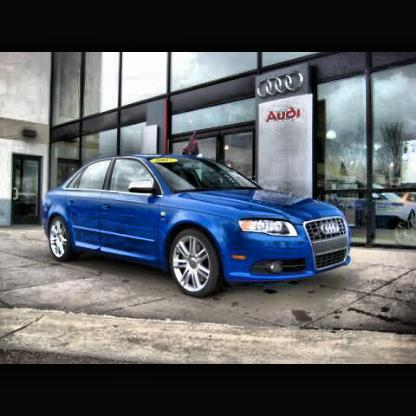Audi S4 Sedan 2007: (42, 157, 356, 298)
